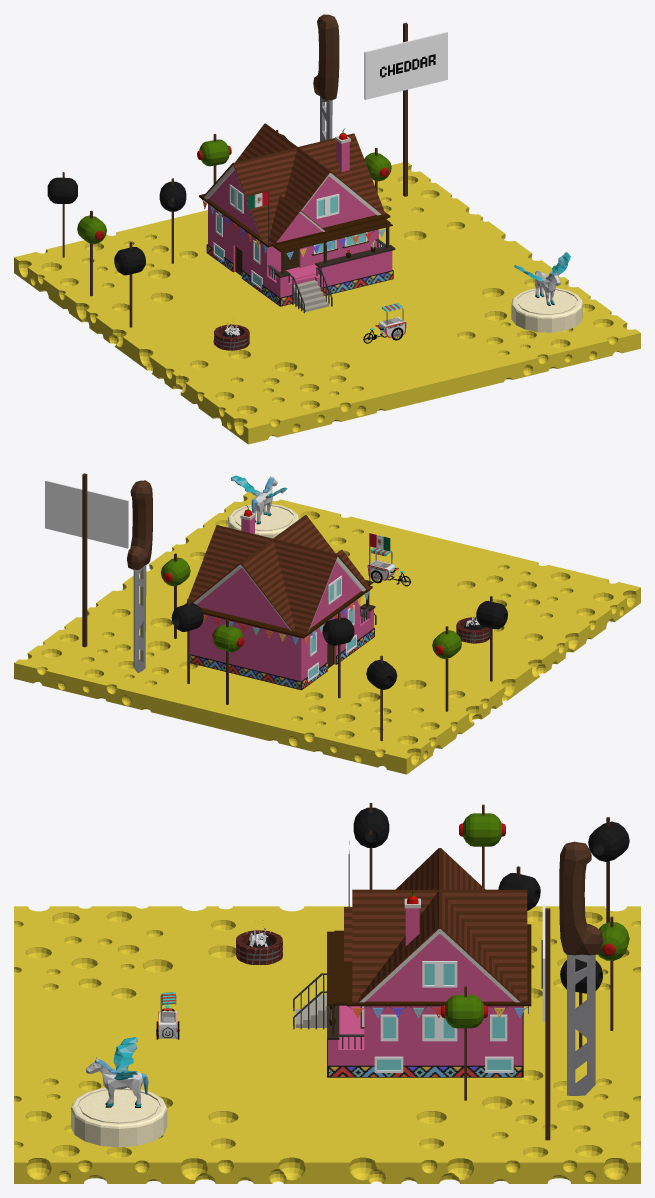
The picture shows the model from 3 angles, top to bottom: view 1: azimuth 30°, elevation 25°; view 2: azimuth 150°, elevation 25°; view 3: azimuth 270°, elevation 25°; orthographic projection. The views are drawn at different scales.
Visible parts, largest first — view 1: Cube.022, Cube.1005, Cube.023, Cylinder.016, Cube.024, Sphere.017, ANIMAL_PEGASO, Sphere.016, Sphere.020, OBJRANDOM_CAMPFIRE, Sphere.018, Sphere.022 (+2 smaller); view 2: Cube.022, Cube.1005, Cube.023, Cube.024, Cylinder.016, Sphere.017, Sphere.020, ANIMAL_PEGASO, Sphere.021, Sphere.016, Sphere.018, Sphere.022 (+3 smaller); view 3: Cube.022, Cube.1005, Cube.024, Cylinder.016, ANIMAL_PEGASO, Cube.023, Sphere.019, Sphere.016, OBJRANDOM_CAMPFIRE, Sphere.018, Sphere.017, Sphere.022 (+3 smaller).
Boxes of the visible parts, x1=… form: Cube.022: x1=14, y1=162, x2=640, y2=444; Cube.1005: x1=199, y1=123, x2=395, y2=313; Cube.023: x1=364, y1=23, x2=447, y2=196; Cylinder.016: x1=511, y1=288, x2=582, y2=332; Cube.024: x1=313, y1=14, x2=339, y2=141; Sphere.017: x1=114, y1=242, x2=145, y2=327; ANIMAL_PEGASO: x1=514, y1=252, x2=570, y2=305; Sphere.016: x1=47, y1=172, x2=77, y2=257; Sphere.020: x1=159, y1=178, x2=186, y2=263; OBJRANDOM_CAMPFIRE: x1=213, y1=323, x2=249, y2=350; Sphere.018: x1=77, y1=210, x2=106, y2=296; Sphere.022: x1=197, y1=134, x2=231, y2=183; Cube.022: x1=14, y1=492, x2=640, y2=774; Cube.1005: x1=184, y1=505, x2=390, y2=690; Cube.023: x1=45, y1=473, x2=128, y2=647; Cube.024: x1=127, y1=480, x2=152, y2=672; Cylinder.016: x1=228, y1=504, x2=298, y2=538; Sphere.017: x1=476, y1=596, x2=507, y2=681; Sphere.020: x1=322, y1=612, x2=354, y2=698; ANIMAL_PEGASO: x1=231, y1=475, x2=287, y2=524; Sphere.021: x1=171, y1=598, x2=203, y2=683; Sphere.016: x1=366, y1=655, x2=397, y2=741; Sphere.018: x1=432, y1=626, x2=461, y2=711; Sphere.022: x1=212, y1=619, x2=244, y2=704; Cube.022: x1=14, y1=906, x2=640, y2=1183; Cube.1005: x1=293, y1=841, x2=531, y2=1077; Cube.024: x1=559, y1=841, x2=602, y2=1095; Cylinder.016: x1=71, y1=1087, x2=167, y2=1147; ANIMAL_PEGASO: x1=86, y1=1037, x2=148, y2=1107; Cube.023: x1=541, y1=904, x2=550, y2=1140; Sphere.019: x1=441, y1=986, x2=487, y2=1100; Sphere.016: x1=588, y1=817, x2=629, y2=922; OBJRANDOM_CAMPFIRE: x1=236, y1=926, x2=282, y2=964; Sphere.018: x1=459, y1=804, x2=505, y2=888; Sphere.017: x1=353, y1=803, x2=389, y2=889; Sphere.022: x1=598, y1=916, x2=629, y2=1030.
Size of the model in its own units: 3917 by 2010 by 4000.
72 materials, 5 textured.
